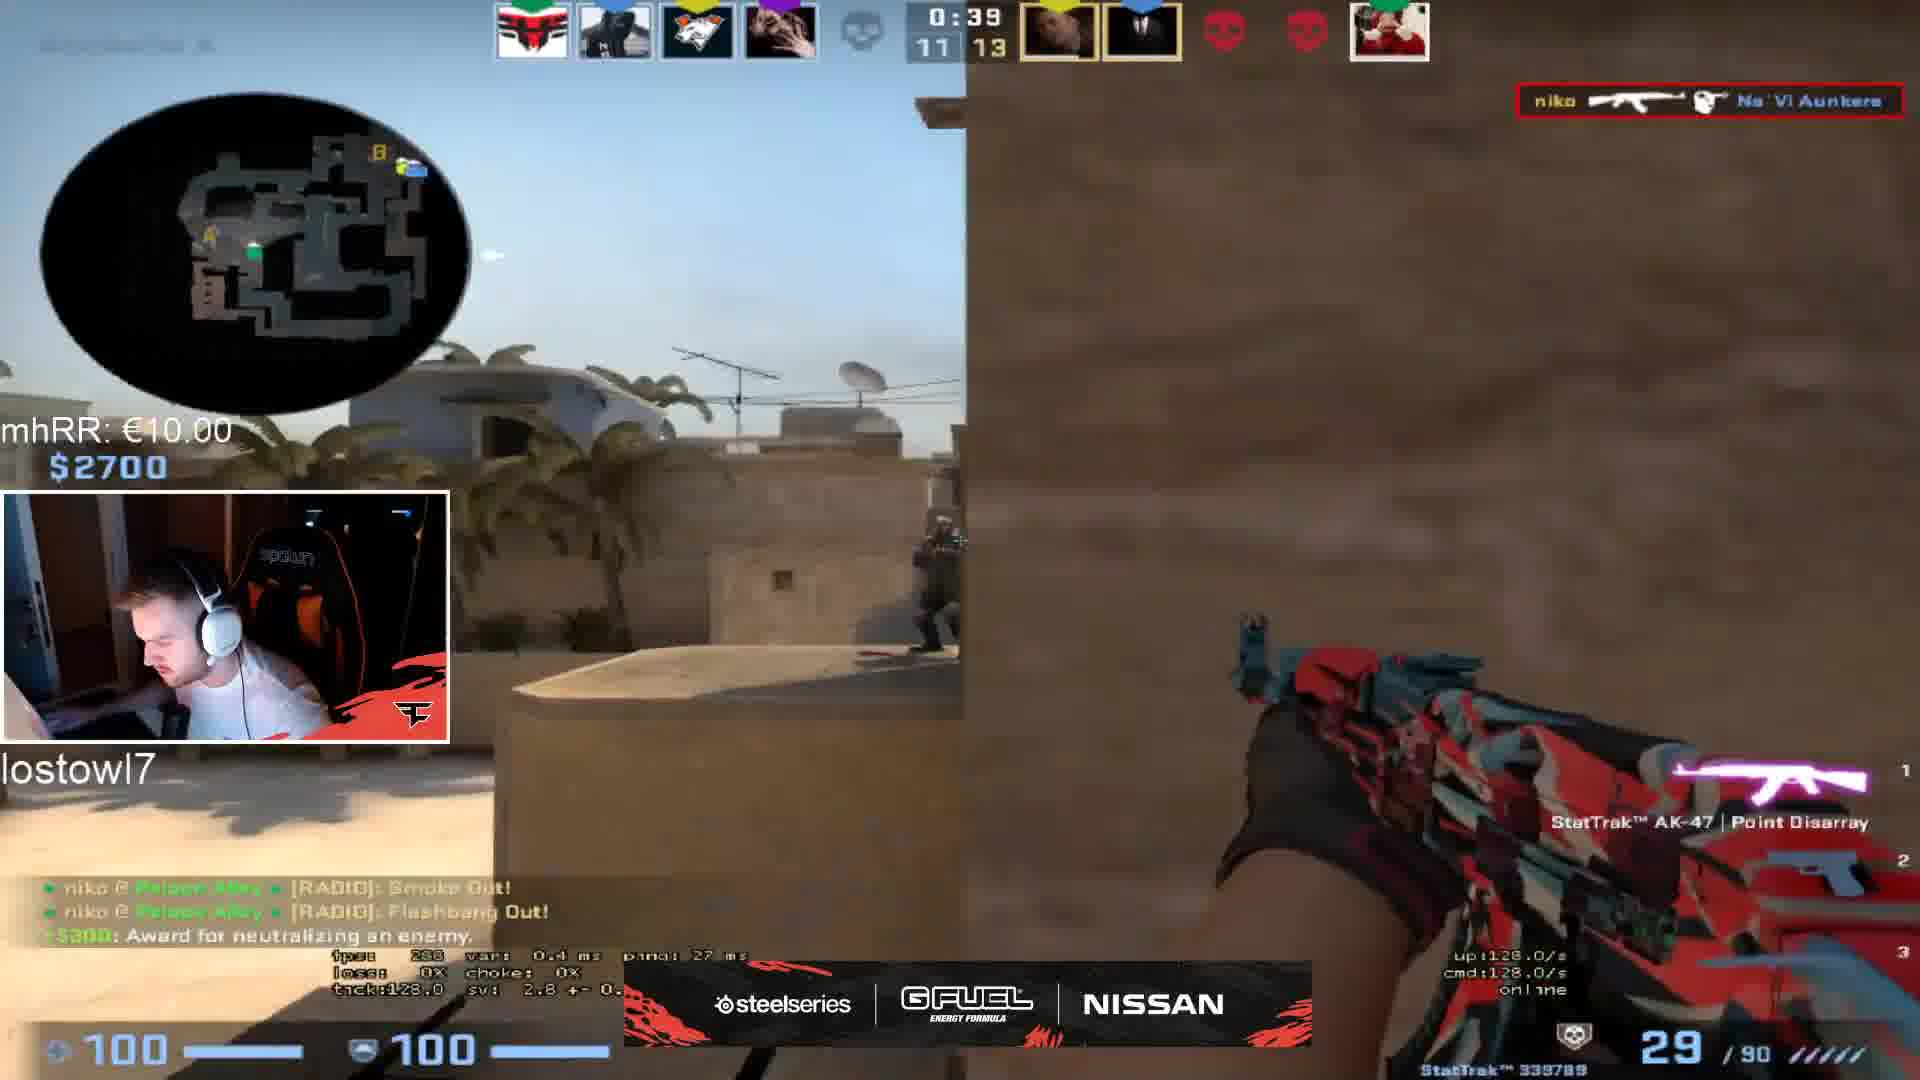enemy: (911, 514, 969, 662)
